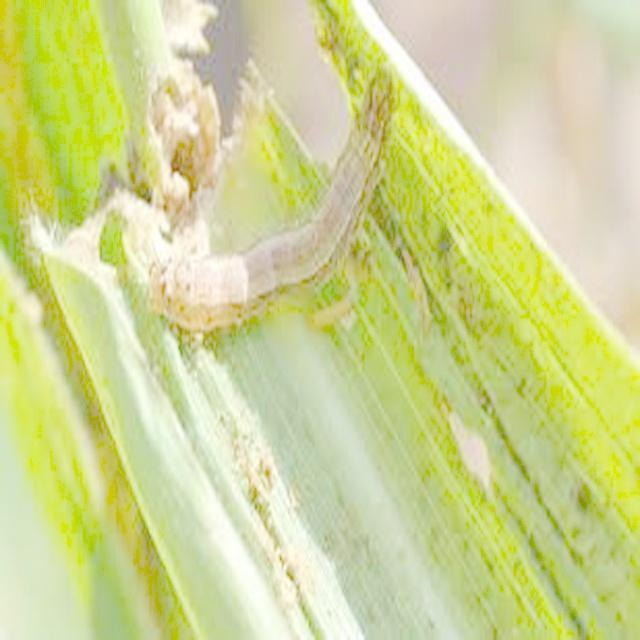gusano_cogollero: (146, 61, 400, 359)
